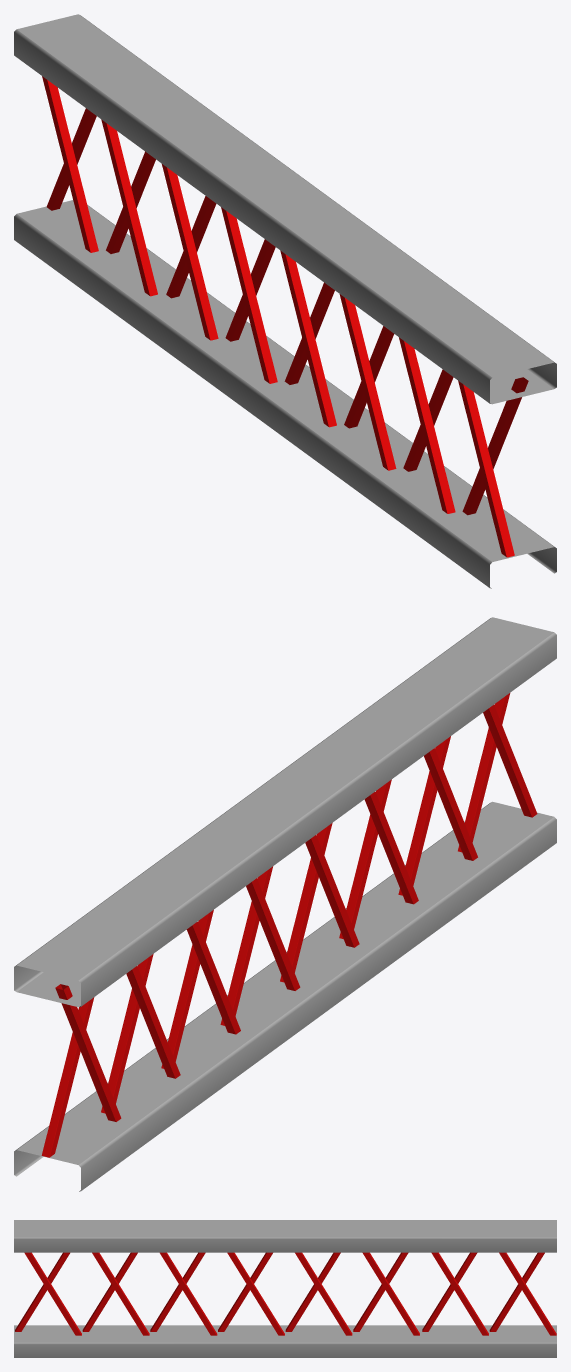
The model's file is Dom_znati_ograda_8x.fbx.
3 views of the same model, one above another, from view 1: azimuth 30°, elevation 25°; view 2: azimuth 150°, elevation 25°; view 3: azimuth 270°, elevation 25° (orthographic). The views are drawn at different scales.
Visible parts, largest first — view 1: dom_znati_ograda_8x; view 2: dom_znati_ograda_8x; view 3: dom_znati_ograda_8x.
Part boxes in pixels (x1,y1,x2,y2): dom_znati_ograda_8x: (14,14,556,588); dom_znati_ograda_8x: (14,617,556,1191); dom_znati_ograda_8x: (14,1220,556,1357).
Bounding box in the file's own units: 2.44 × 7.34 × 29.98.
